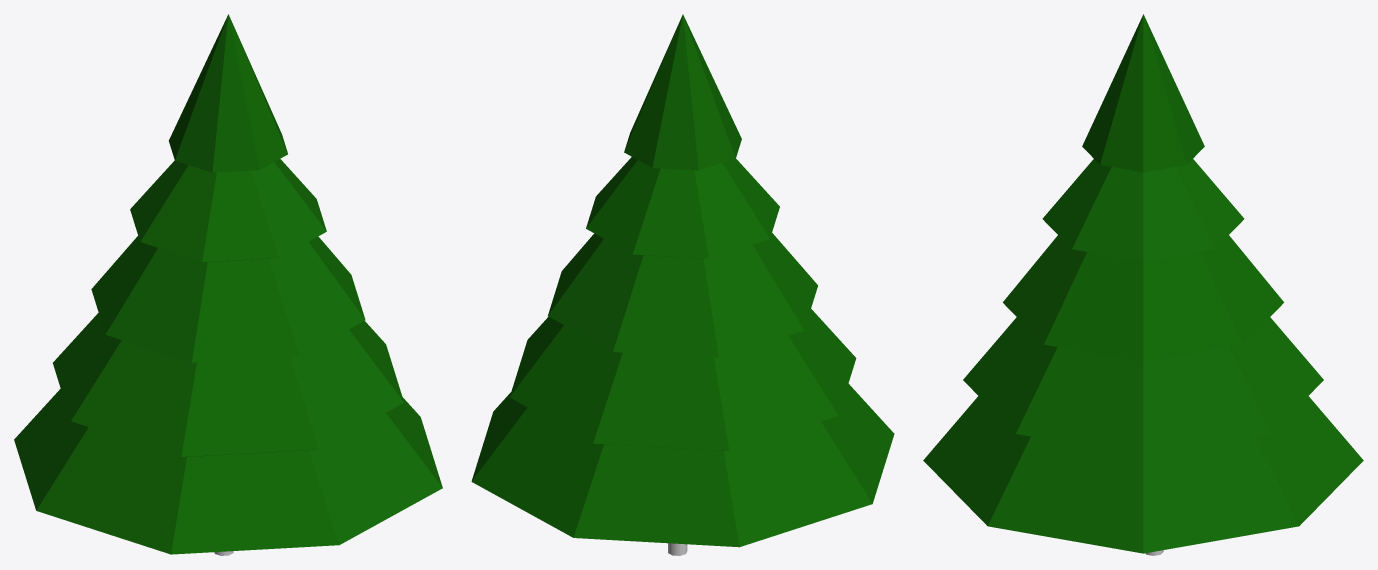
File: Pine.fbx
3 renders of one model, left to right at view 1: azimuth 30°, elevation 25°; view 2: azimuth 150°, elevation 25°; view 3: azimuth 270°, elevation 25°, orthographic.
Parts seen in each view (by area): view 1: Cylinder002; view 2: Cylinder002; view 3: Cylinder002.
Part boxes in pixels (x1,y1,x2,y2): Cylinder002: (14,14,442,554); Cylinder002: (471,14,894,547); Cylinder002: (923,14,1363,553).
Size of the model in its own units: 49.6 by 66.76 by 49.6.
